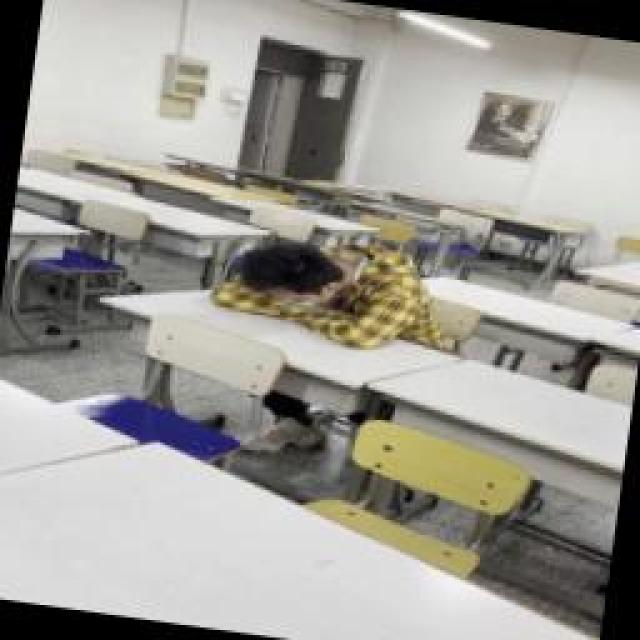sleep: (207, 222, 455, 358)
